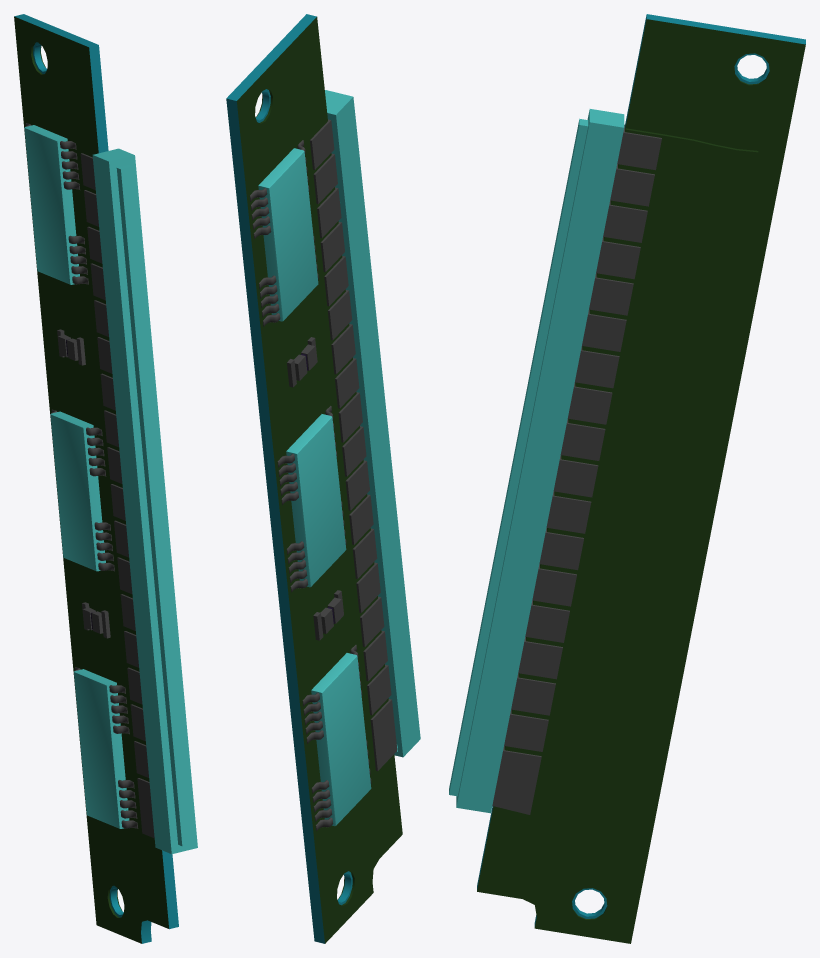
File: SM_RAM.fbx
The picture shows the model from 3 angles, left to right: view 1: azimuth 30°, elevation 25°; view 2: azimuth 150°, elevation 25°; view 3: azimuth 270°, elevation 25°; orthographic projection. The views are drawn at different scales.
Parts seen in each view (by area): view 1: Box022; view 2: Box022; view 3: Box022.
Part boxes in pixels (x1=…): Box022: x1=14, y1=14, x2=197, y2=943; Box022: x1=226, y1=14, x2=420, y2=943; Box022: x1=449, y1=14, x2=805, y2=943.
Size of the model in its own units: 0.0781 by 2.21 by 0.7732.
